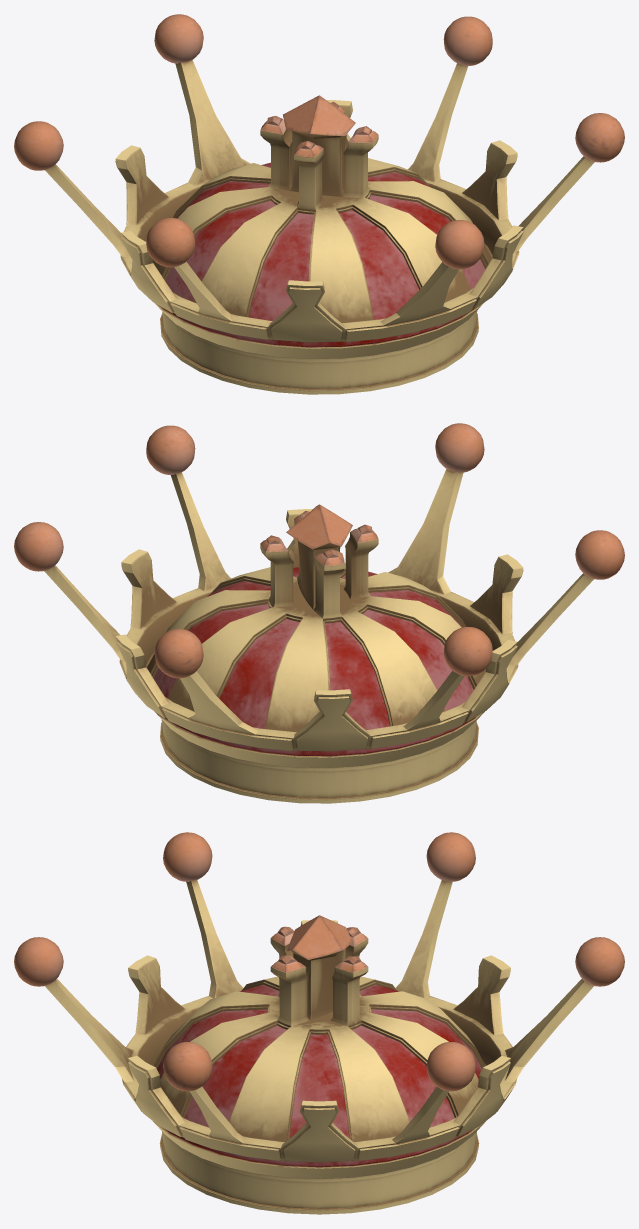
File: royal_crown.glb
The picture shows the model from 3 angles, top to bottom: view 1: azimuth 30°, elevation 25°; view 2: azimuth 150°, elevation 25°; view 3: azimuth 270°, elevation 25°; orthographic projection.
Parts seen in each view (by area): view 1: Circle_0; view 2: Circle_0; view 3: Circle_0.
Boxes of the visible parts, x1,y1,x2,y2 form: Circle_0: (14,14,624,394); Circle_0: (14,423,624,803); Circle_0: (14,832,624,1214).
Bounding box in the file's own units: 1.2 × 0.5633 × 1.34.
Materials: 1 (1 with a texture image).
